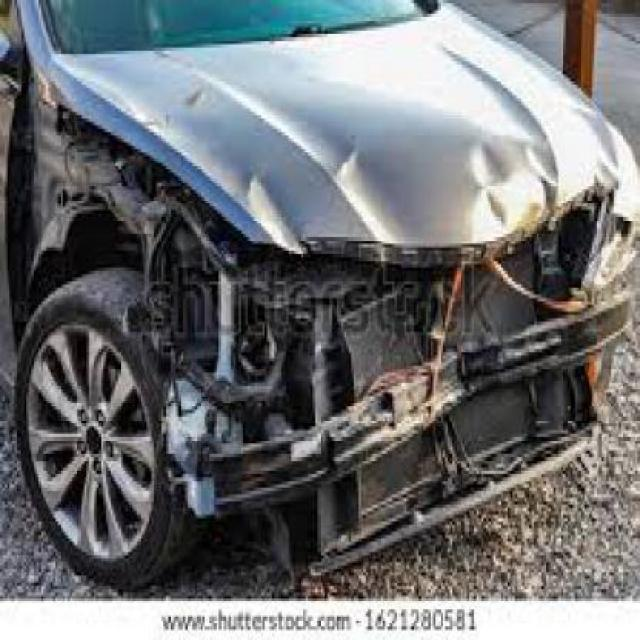damaged-front-bumper: (148, 271, 626, 524)
